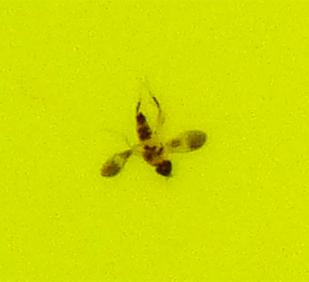Brachycera: (100, 100, 209, 182)
